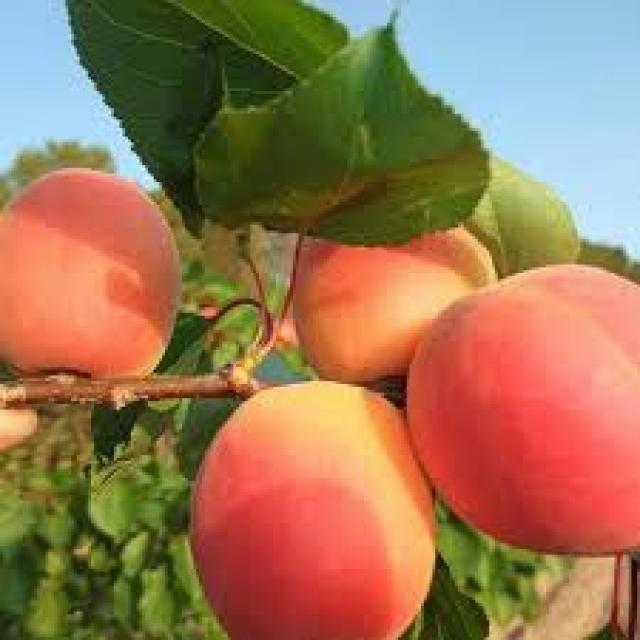kayisi: (399, 259, 640, 548), (191, 376, 440, 640), (0, 166, 184, 379)
